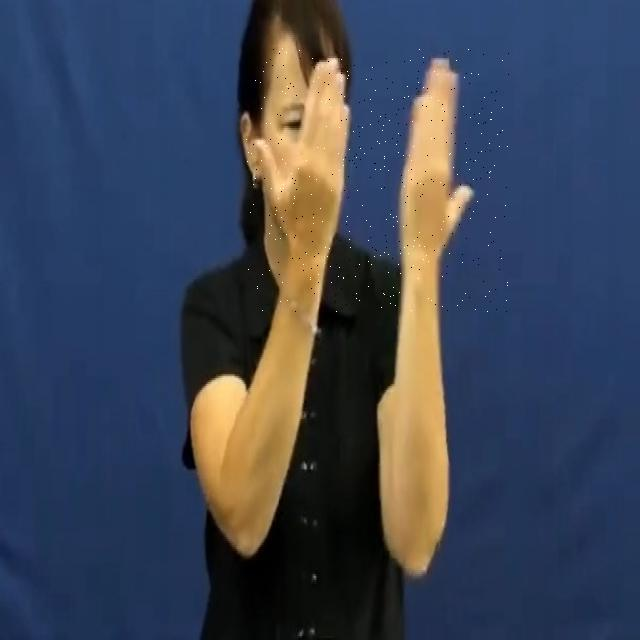menu: (246, 48, 509, 312)
